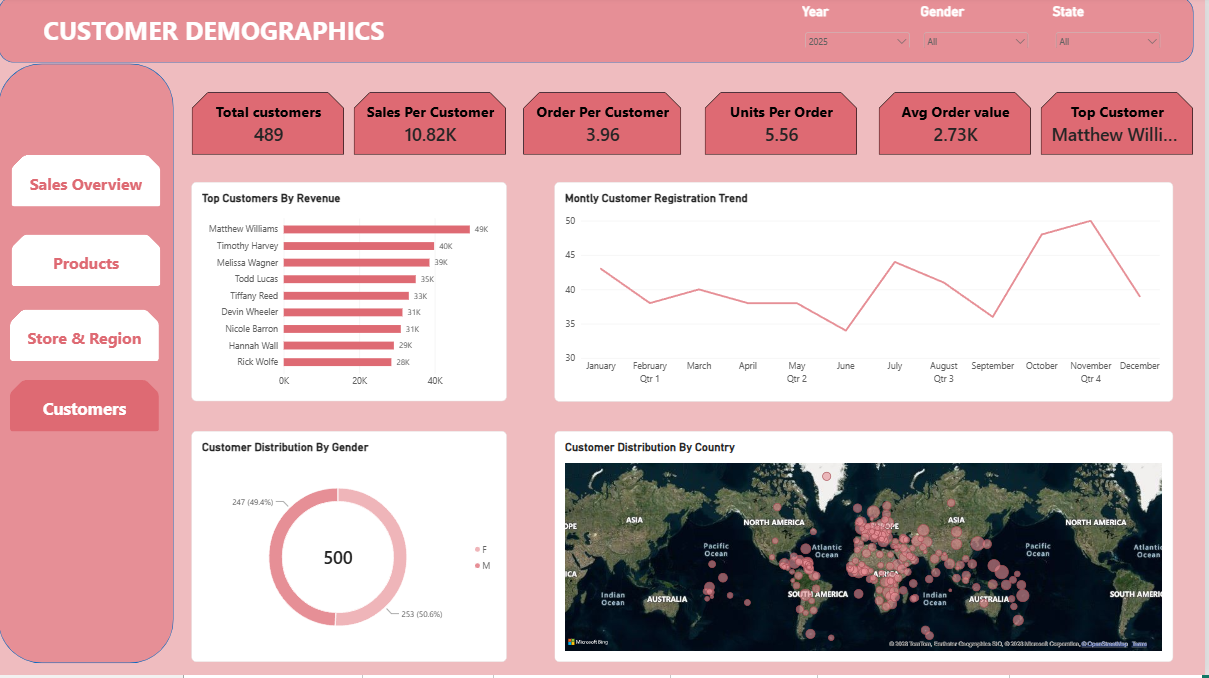

The page's visual inventory and layout, read from the dashboard file:
{"tool":"powerbi","page":{"name":"Customers","canvas":[1920,1080],"ordinal":3},"visuals":[{"type":"shape","box":[0,0,1901.8,106.3],"z":0},{"type":"shape","box":[0,106.3,279.5,953.9],"z":1},{"type":"actionButton","box":[21.3,252.2,237,82],"z":2},{"type":"actionButton","box":[21.3,379.7,237,82],"z":3},{"type":"actionButton","box":[18.2,498.2,237,82],"z":4},{"type":"actionButton","box":[18.2,610.6,237,82],"z":5},{"type":"barChart","title":"Top Customers By Revenue","fields":{"Category":["sales_warehouse dim_customer.full name"],"Y":["calculation table.Total Sales"]},"box":[306.8,294.7,501,348.3],"z":6},{"type":"donutChart","title":"Customer Distribution By Gender","fields":{"Category":["sales_warehouse dim_customer.gender"],"Y":["CountNonNull(sales_warehouse dim_customer.customer_id)"]},"box":[306.8,692.7,501.3,367.6],"z":7},{"type":"map","title":"Customer Distribution By Country","fields":{"Category":["sales_warehouse dim_customer.country"],"Size":["calculation table.Total Sales"]},"box":[884.1,692.7,984.3,367.6],"z":8},{"type":"lineChart","title":"Montly Customer Registration Trend","fields":{"Category":["sales_warehouse dim_customer.join_date.Variation.Date Hierarchy.Quarter","sales_warehouse dim_customer.join_date.Variation.Date Hierarchy.Month"],"Y":["calculation table.total customers"]},"box":[884.1,294.7,984.3,349.4],"z":9},{"type":"actionButton","box":[0,12.2,686.6,85.1],"z":10},{"type":"cardVisual","fields":{"Data":["calculation table.Total customers"]},"box":[306.8,151.9,243,100.3],"z":11},{"type":"cardVisual","fields":{"Data":["calculation table.Sales Per Customer"]},"box":[565.1,151.9,243,100.3],"z":12},{"type":"cardVisual","fields":{"Data":["calculation table.Order Per Customer"]},"box":[835.4,151.9,252.2,100.3],"z":13},{"type":"cardVisual","fields":{"Data":["calculation table.Units Per Order"]},"box":[1124.1,151.9,243,100.3],"z":14},{"type":"cardVisual","fields":{"Data":["calculation table.Avg Order value"]},"box":[1400.5,151.9,243,100.3],"z":15},{"type":"slicer","title":"Year","fields":{"Values":["sales_warehouse dim_date.year","sales_warehouse dim_date.month"]},"box":[1279,12.2,176.2,69.9],"z":16},{"type":"slicer","title":"Gender","fields":{"Values":["sales_warehouse dim_customer.gender"]},"box":[1467.3,12.2,176.2,69.9],"z":17},{"type":"slicer","title":"State","fields":{"Values":["sales_warehouse dim_customer.state"]},"box":[1677,12.2,176.2,69.9],"z":18},{"type":"cardVisual","fields":{"Data":["calculation table.Top Customer"]},"box":[1658.7,151.9,243,100.3],"z":19}]}

Visuals, with their boxes in screenshot pixels (x1, y1, x2, y2), scaled from the page's 1920x1080 canvas onto the 1209x678 screenshot:
shape: crop(0, 0, 1198, 67)
shape: crop(0, 67, 176, 666)
actionButton: crop(13, 158, 163, 210)
actionButton: crop(13, 238, 163, 290)
actionButton: crop(11, 313, 161, 364)
actionButton: crop(11, 383, 161, 435)
"Top Customers By Revenue" barChart: crop(193, 185, 509, 404)
"Customer Distribution By Gender" donutChart: crop(193, 435, 509, 666)
"Customer Distribution By Country" map: crop(557, 435, 1177, 666)
"Montly Customer Registration Trend" lineChart: crop(557, 185, 1177, 404)
actionButton: crop(0, 8, 432, 61)
cardVisual - calculation table.Total customers: crop(193, 95, 346, 158)
cardVisual - calculation table.Sales Per Customer: crop(356, 95, 509, 158)
cardVisual - calculation table.Order Per Customer: crop(526, 95, 685, 158)
cardVisual - calculation table.Units Per Order: crop(708, 95, 861, 158)
cardVisual - calculation table.Avg Order value: crop(882, 95, 1035, 158)
"Year" slicer: crop(805, 8, 916, 52)
"Gender" slicer: crop(924, 8, 1035, 52)
"State" slicer: crop(1056, 8, 1167, 52)
cardVisual - calculation table.Top Customer: crop(1044, 95, 1197, 158)
